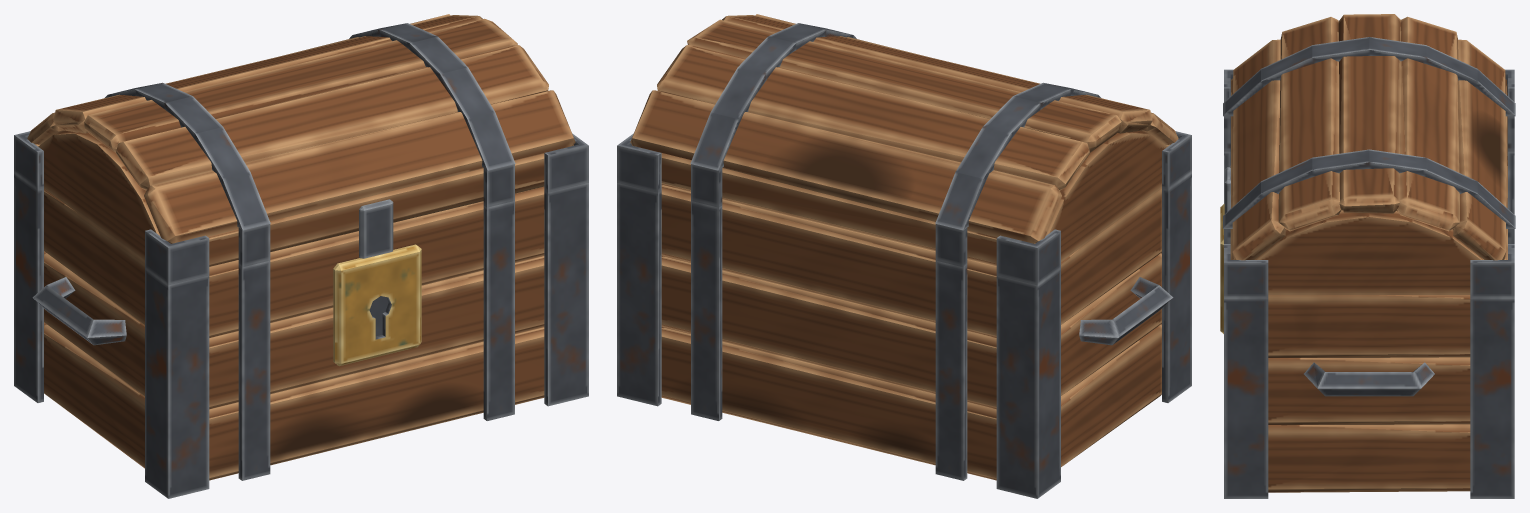
Rendered from treasure_chest.glb.
3 views of the same model, side by side, from view 1: azimuth 30°, elevation 25°; view 2: azimuth 150°, elevation 25°; view 3: azimuth 270°, elevation 25° (orthographic). The views are drawn at different scales.
Visible parts, largest first — view 1: lid_plank_low_front, wall_front_0_front, lid_plank_mid_front, wall_front_2_front, wall_front_1_front, corner_guard_front_left, lid_plank_top, corner_guard_front_right, lock_plate, lid_cap_left, lid_rim_front, wall_side_0_left (+16 smaller); view 2: lid_plank_low_back, wall_front_2_back, wall_front_1_back, wall_front_0_back, lid_plank_mid_back, corner_guard_back_left, lid_plank_top, corner_guard_back_right, lid_rim_back, lid_cap_left, wall_side_0_left, body_strap_back_left (+14 smaller); view 3: lid_cap_right, wall_side_0_right, wall_side_2_right, wall_side_1_right, lid_plank_top, lid_plank_mid_front, lid_plank_mid_back, corner_guard_front_right, corner_guard_back_right, lid_plank_low_front, lid_plank_low_back, lid_strap_left (+7 smaller).
Boxes of the visible parts, x1,y1,x2,y2 form: lid_plank_low_front: (144,90,575,243); wall_front_0_front: (209,326,544,480); lid_plank_mid_front: (116,44,548,190); wall_front_2_front: (209,186,544,337); wall_front_1_front: (209,255,544,409); corner_guard_front_left: (145,268,209,498); lid_plank_top: (84,18,517,152); corner_guard_front_right: (544,183,588,406); lock_plate: (333,244,421,366); lid_cap_left: (38,131,160,261); lid_rim_front: (208,145,573,266); wall_side_0_left: (44,324,144,468); lid_plank_low_back: (630,90,1061,243); wall_front_2_back: (661,184,996,337); wall_front_1_back: (661,255,996,409); wall_front_0_back: (661,326,996,480); lid_plank_mid_back: (657,44,1089,190); corner_guard_back_left: (996,268,1060,498); lid_plank_top: (687,19,1122,152); corner_guard_back_right: (617,183,661,406); lid_rim_back: (632,145,1035,265); lid_cap_left: (1045,131,1167,261); wall_side_0_left: (1061,324,1161,466); body_strap_back_left: (935,260,967,480); lid_cap_right: (1254,211,1483,294); wall_side_0_right: (1268,424,1470,492); wall_side_2_right: (1268,295,1470,357); wall_side_1_right: (1268,357,1470,425); lid_plank_top: (1338,14,1400,213); lid_plank_mid_front: (1278,17,1341,231); lid_plank_mid_back: (1397,16,1459,231); corner_guard_front_right: (1224,298,1268,498); corner_guard_back_right: (1470,298,1514,498); lid_plank_low_front: (1232,39,1285,260); lid_plank_low_back: (1453,39,1506,260); lid_strap_left: (1223,37,1515,116).
Bounding box in the file's own units: 0.9469 × 0.6023 × 0.533.
Materials: 3 (3 with a texture image).
